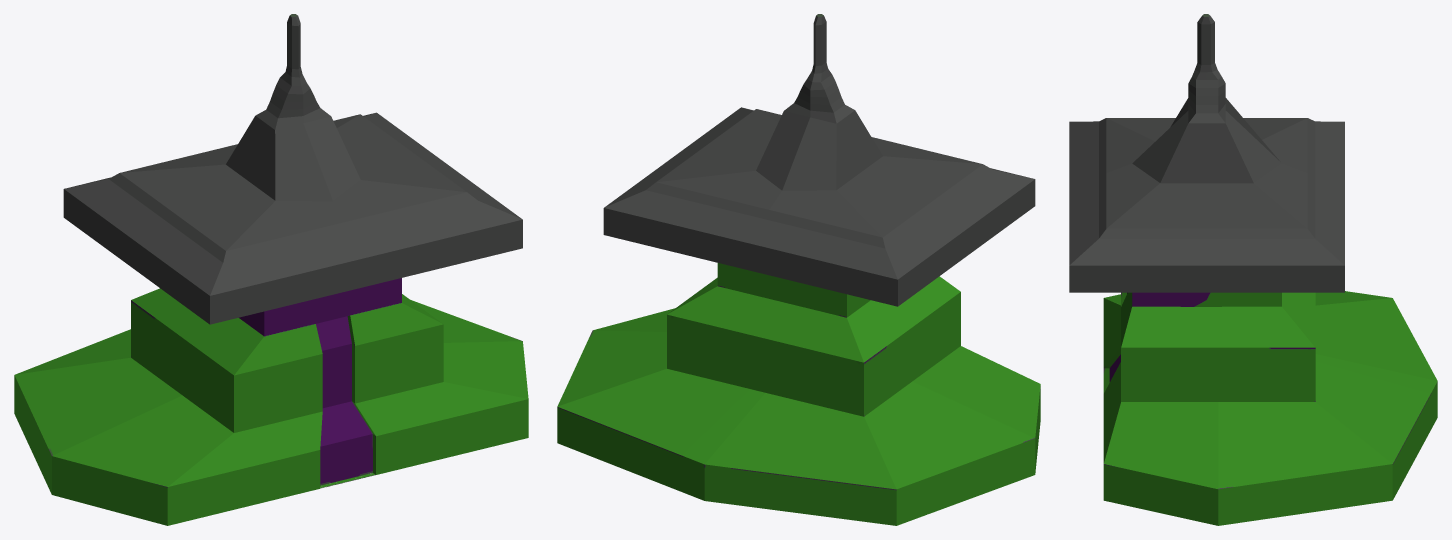
The model's file is Wizard_Player.glb.
The picture shows the model from 3 angles, left to right: view 1: azimuth 30°, elevation 25°; view 2: azimuth 150°, elevation 25°; view 3: azimuth 270°, elevation 25°; orthographic projection. The views are drawn at different scales.
Visible parts, largest first — view 1: Cube; view 2: Cube; view 3: Cube.
Part boxes in pixels (bbox=[...]): Cube: bbox=[14, 14, 528, 525]; Cube: bbox=[557, 14, 1040, 525]; Cube: bbox=[1069, 14, 1437, 525].
Bounding box in the file's own units: 6.85 × 6.03 × 4.92.
1 material, 1 textured.
